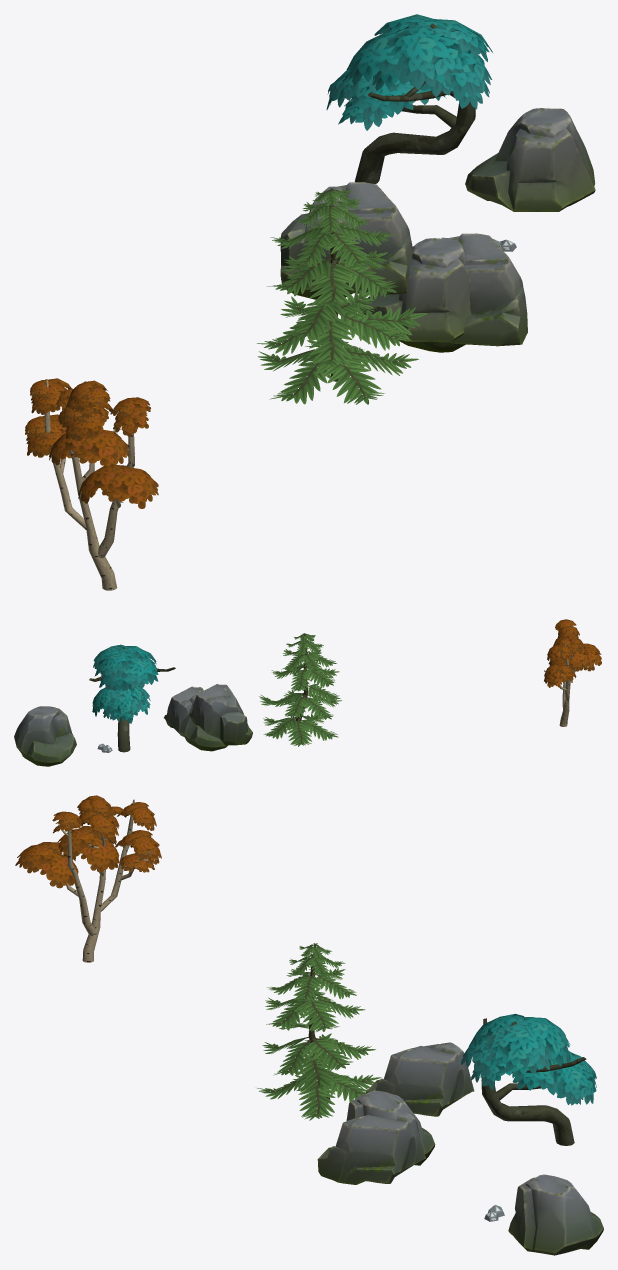
File: overworld-8-3.gltf
3 views of the same model, one above another, from view 1: azimuth 30°, elevation 25°; view 2: azimuth 150°, elevation 25°; view 3: azimuth 270°, elevation 25° (orthographic). The views are drawn at different scales.
Visible parts, largest first — view 1: 7e2e11a73c6c1f6b77c7c18c44a87655900818e94c168e7a92bb0a48cc87, d3a49cf40a43bca59e27ca2096fab65e613b5d5993f180ce0def51f1fdd9 (×2), 883bf022a4c95c0b0a24ce14e7511dc7b18eb62759134961097aa30193af, 133dae8ce562dbc4cbf0d0d2cb7dc4cb2baafed83b6c58ebd4446a365708, 945c10e33683e4b3baa7557ff260c79730a9992e0e5a23b5d9307a2c4035 (×2); view 2: 7e2e11a73c6c1f6b77c7c18c44a87655900818e94c168e7a92bb0a48cc87, 883bf022a4c95c0b0a24ce14e7511dc7b18eb62759134961097aa30193af, d3a49cf40a43bca59e27ca2096fab65e613b5d5993f180ce0def51f1fdd9 (×2), 945c10e33683e4b3baa7557ff260c79730a9992e0e5a23b5d9307a2c4035 (×2), 133dae8ce562dbc4cbf0d0d2cb7dc4cb2baafed83b6c58ebd4446a365708; view 3: 945c10e33683e4b3baa7557ff260c79730a9992e0e5a23b5d9307a2c4035 (×2), 883bf022a4c95c0b0a24ce14e7511dc7b18eb62759134961097aa30193af, 7e2e11a73c6c1f6b77c7c18c44a87655900818e94c168e7a92bb0a48cc87, 133dae8ce562dbc4cbf0d0d2cb7dc4cb2baafed83b6c58ebd4446a365708, d3a49cf40a43bca59e27ca2096fab65e613b5d5993f180ce0def51f1fdd9 (×2).
Part boxes in pixels (x1,y1,x2,y2): 7e2e11a73c6c1f6b77c7c18c44a87655900818e94c168e7a92bb0a48cc87: [257, 188, 427, 404]; d3a49cf40a43bca59e27ca2096fab65e613b5d5993f180ce0def51f1fdd9 (×2): [360, 108, 595, 342]; 883bf022a4c95c0b0a24ce14e7511dc7b18eb62759134961097aa30193af: [326, 14, 492, 183]; 133dae8ce562dbc4cbf0d0d2cb7dc4cb2baafed83b6c58ebd4446a365708: [25, 378, 158, 590]; 945c10e33683e4b3baa7557ff260c79730a9992e0e5a23b5d9307a2c4035 (×2): [280, 182, 527, 352]; 7e2e11a73c6c1f6b77c7c18c44a87655900818e94c168e7a92bb0a48cc87: [259, 633, 341, 746]; 883bf022a4c95c0b0a24ce14e7511dc7b18eb62759134961097aa30193af: [89, 644, 175, 752]; d3a49cf40a43bca59e27ca2096fab65e613b5d5993f180ce0def51f1fdd9 (×2): [14, 691, 227, 766]; 945c10e33683e4b3baa7557ff260c79730a9992e0e5a23b5d9307a2c4035 (×2): [164, 684, 252, 745]; 133dae8ce562dbc4cbf0d0d2cb7dc4cb2baafed83b6c58ebd4446a365708: [544, 619, 601, 726]; 945c10e33683e4b3baa7557ff260c79730a9992e0e5a23b5d9307a2c4035 (×2): [317, 1042, 474, 1184]; 883bf022a4c95c0b0a24ce14e7511dc7b18eb62759134961097aa30193af: [461, 1013, 596, 1145]; 7e2e11a73c6c1f6b77c7c18c44a87655900818e94c168e7a92bb0a48cc87: [257, 943, 381, 1120]; 133dae8ce562dbc4cbf0d0d2cb7dc4cb2baafed83b6c58ebd4446a365708: [15, 795, 161, 962]; d3a49cf40a43bca59e27ca2096fab65e613b5d5993f180ce0def51f1fdd9 (×2): [346, 1090, 603, 1255].
Bounding box in the file's own units: 31.03 × 8.21 × 24.48.
9 materials, 8 textured.
